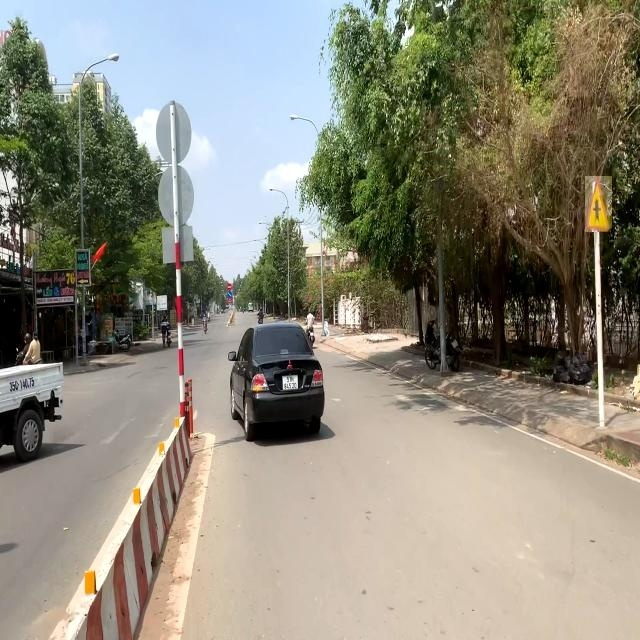bien_hieu_lenh: (585, 176, 612, 232)
